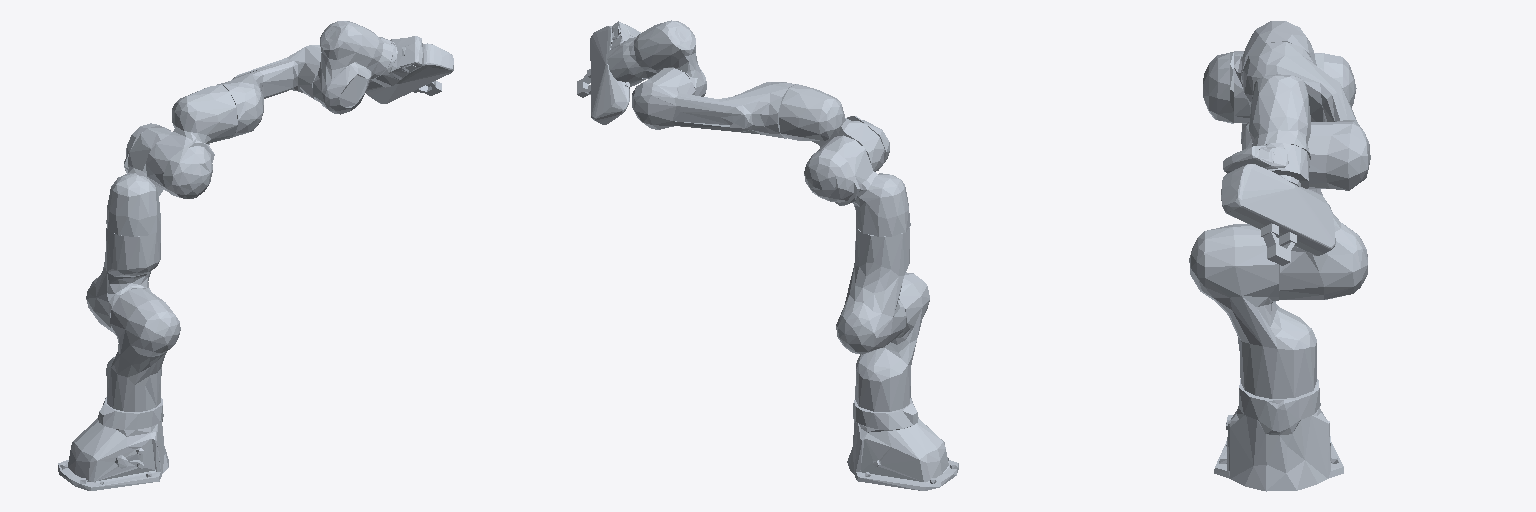
URDF robot description (fr3):
<?xml version="1.0"?>
<!-- Modified for CS 549 on 2026-10-04. Original kinematics and limits retained.
     Official collision geometry replaces detailed visual meshes.
     See model/source/LICENSE, model/source/NOTICE and model/provenance.json. -->
<robot name="fr3">
  <link name="fr3_link0">
    <collision name="fr3_link0_collision">
      <geometry>
        <mesh filename="meshes/link0.obj" />
      </geometry>
    </collision>
    <inertial>
      <origin rpy="0 0 0" xyz="-0.0172 0.0004 0.0745" />
      <mass value="2.3966" />
      <inertia ixx="0.009" ixy="0.0" ixz="0.002" iyy="0.0115" iyz="0.0" izz="0.0085" />
    </inertial>
    <visual name="fr3_link0_teaching_visual_0">
      <geometry>
        <mesh filename="meshes/link0.obj" />
      </geometry>
      <material name="teaching_grey">
        <color rgba="0.78 0.81 0.85 1" />
      </material>
    </visual>
  </link>
  <link name="fr3_link0_accelerometer_top">
      </link>
  <joint name="fr3_link0_accelerometer_top_joint" type="fixed">
    <origin rpy="3.1416 0.0 0.0" xyz="-0.017402 -0.007872 0.04715" />
    <parent link="fr3_link0" />
    <child link="fr3_link0_accelerometer_top" />
  </joint>
  <link name="fr3_link0_accelerometer_bottom">
      </link>
  <joint name="fr3_link0_accelerometer_bottom_joint" type="fixed">
    <origin rpy="0.0 0.0 -1.5708" xyz="-0.019739 0.0015506 0.05075" />
    <parent link="fr3_link0" />
    <child link="fr3_link0_accelerometer_bottom" />
  </joint>
  <link name="fr3_link1">
    <collision name="fr3_link1_collision">
      <geometry>
        <mesh filename="meshes/link1.obj" />
      </geometry>
    </collision>
    <inertial>
      <origin rpy="0 0 0" xyz="0.0000004128 -0.0181251324 -0.0386035970" />
      <mass value="2.9274653454" />
      <inertia ixx="0.023927316485107913" ixy="1.3317903455714081e-05" ixz="-0.00011404774918616684" iyy="0.0224821613275756" iyz="-0.0019950320628240115" izz="0.006350098258530016" />
    </inertial>
    <visual name="fr3_link1_teaching_visual_0">
      <geometry>
        <mesh filename="meshes/link1.obj" />
      </geometry>
      <material name="teaching_grey">
        <color rgba="0.78 0.81 0.85 1" />
      </material>
    </visual>
  </link>
  <link name="fr3_link1_accelerometer_top">
      </link>
  <joint name="fr3_link1_accelerometer_top_joint" type="fixed">
    <origin rpy="-1.5708 0.0 3.1416" xyz="0.017402 -0.093352 -0.00787" />
    <parent link="fr3_link1" />
    <child link="fr3_link1_accelerometer_top" />
  </joint>
  <link name="fr3_link1_accelerometer_bottom">
      </link>
  <joint name="fr3_link1_accelerometer_bottom_joint" type="fixed">
    <origin rpy="-1.5708 1.5708 0.0" xyz="0.01974 -0.08975 0.00155" />
    <parent link="fr3_link1" />
    <child link="fr3_link1_accelerometer_bottom" />
  </joint>
  <joint name="fr3_joint1" type="revolute">
    <origin rpy="0 0 0" xyz="0 0 0.333" />
    <parent link="fr3_link0" />
    <child link="fr3_link1" />
    <axis xyz="0 0 1" />
    <limit effort="87.0" lower="-2.9007" upper="2.9007" velocity="2.62" />
    <safety_controller k_position="100.0" k_velocity="40.0" soft_lower_limit="-2.9007" soft_upper_limit="2.9007" />
    <position_based_velocity_limits deceleration_limit="6.0" velocity_offset="0.652" />
    <dynamics D="1" K="7000" damping="0.003" friction="0.2" gear_ratio="120.0" motor_inertia="4.206399e-05" mu_coulomb="0" mu_viscous="16" />
  </joint>
  <link name="fr3_link2">
    <collision name="fr3_link2_collision">
      <geometry>
        <mesh filename="meshes/link2.obj" />
      </geometry>
    </collision>
    <inertial>
      <origin rpy="0 0 0" xyz="0.0031828864 -0.0743221644 0.0088146084" />
      <mass value="2.9355370338" />
      <inertia ixx="0.041938946257609425" ixy="0.00020257331521090626" ixz="0.004077784227179924" iyy="0.02514514885014724" iyz="-0.0042252158006570156" izz="0.06170214472888839" />
    </inertial>
    <visual name="fr3_link2_teaching_visual_0">
      <geometry>
        <mesh filename="meshes/link2.obj" />
      </geometry>
      <material name="teaching_grey">
        <color rgba="0.78 0.81 0.85 1" />
      </material>
    </visual>
  </link>
  <link name="fr3_link2_accelerometer_top">
      </link>
  <joint name="fr3_link2_accelerometer_top_joint" type="fixed">
    <origin rpy="1.5708 0.0 3.1416" xyz="0.017403 -0.11715 0.00787" />
    <parent link="fr3_link2" />
    <child link="fr3_link2_accelerometer_top" />
  </joint>
  <link name="fr3_link2_accelerometer_bottom">
      </link>
  <joint name="fr3_link2_accelerometer_bottom_joint" type="fixed">
    <origin rpy="1.5708 -1.5708 0.0" xyz="0.019737 -0.11875 -0.00155" />
    <parent link="fr3_link2" />
    <child link="fr3_link2_accelerometer_bottom" />
  </joint>
  <joint name="fr3_joint2" type="revolute">
    <origin rpy="-1.570796326794897 0 0" xyz="0 0 0" />
    <parent link="fr3_link1" />
    <child link="fr3_link2" />
    <axis xyz="0 0 1" />
    <limit effort="87.0" lower="-1.8361" upper="1.8361" velocity="2.62" />
    <safety_controller k_position="100.0" k_velocity="40.0" soft_lower_limit="-1.8361" soft_upper_limit="1.8361" />
    <position_based_velocity_limits deceleration_limit="2.585" velocity_offset="0.25" />
    <dynamics D="1" K="7000" damping="0.003" friction="0.2" gear_ratio="120.0" motor_inertia="4.206399e-05" mu_coulomb="0" mu_viscous="16" />
  </joint>
  <link name="fr3_link3">
    <collision name="fr3_link3_collision">
      <geometry>
        <mesh filename="meshes/link3.obj" />
      </geometry>
    </collision>
    <inertial>
      <origin rpy="0 0 0" xyz="0.0407015686 -0.0048200565 -0.0289730823" />
      <mass value="2.2449013699" />
      <inertia ixx="0.02410142547240885" ixy="0.002404694559042109" ixz="-0.002856269270114313" iyy="0.01974053266708178" iyz="-0.002104212683891874" izz="0.019044494482244823" />
    </inertial>
    <visual name="fr3_link3_teaching_visual_0">
      <geometry>
        <mesh filename="meshes/link3.obj" />
      </geometry>
      <material name="teaching_grey">
        <color rgba="0.78 0.81 0.85 1" />
      </material>
    </visual>
  </link>
  <link name="fr3_link3_accelerometer_top">
      </link>
  <joint name="fr3_link3_accelerometer_top_joint" type="fixed">
    <origin rpy="-1.5708 0.0 0.0" xyz="0.065099 0.077352 -0.00787" />
    <parent link="fr3_link3" />
    <child link="fr3_link3_accelerometer_top" />
  </joint>
  <link name="fr3_link3_accelerometer_bottom">
      </link>
  <joint name="fr3_link3_accelerometer_bottom_joint" type="fixed">
    <origin rpy="1.5708 1.5708 0.0" xyz="0.062769 0.073756 0.00155" />
    <parent link="fr3_link3" />
    <child link="fr3_link3_accelerometer_bottom" />
  </joint>
  <joint name="fr3_joint3" type="revolute">
    <origin rpy="1.570796326794897 0 0" xyz="0 -0.316 0" />
    <parent link="fr3_link2" />
    <child link="fr3_link3" />
    <axis xyz="0 0 1" />
    <limit effort="87.0" lower="-2.9007" upper="2.9007" velocity="2.62" />
    <safety_controller k_position="100.0" k_velocity="40.0" soft_lower_limit="-2.9007" soft_upper_limit="2.9007" />
    <position_based_velocity_limits deceleration_limit="3.5" velocity_offset="0.2005" />
    <dynamics D="1" K="7000" damping="0.003" friction="0.2" gear_ratio="120.0" motor_inertia="3.211626e-05" mu_coulomb="0" mu_viscous="16" />
  </joint>
  <link name="fr3_link4">
    <collision name="fr3_link4_collision">
      <geometry>
        <mesh filename="meshes/link4.obj" />
      </geometry>
    </collision>
    <inertial>
      <origin rpy="0 0 0" xyz="-0.0459100965 0.0630492960 -0.0085187868" />
      <mass value="2.6155955791" />
      <inertia ixx="0.03452998321913202" ixy="0.01322552265982813" ixz="0.01015142998484113" iyy="0.028881621933049058" iyz="-0.0009762833870704552" izz="0.04125471171146641" />
    </inertial>
    <visual name="fr3_link4_teaching_visual_0">
      <geometry>
        <mesh filename="meshes/link4.obj" />
      </geometry>
      <material name="teaching_grey">
        <color rgba="0.78 0.81 0.85 1" />
      </material>
    </visual>
  </link>
  <link name="fr3_link4_accelerometer_top">
      </link>
  <joint name="fr3_link4_accelerometer_top_joint" type="fixed">
    <origin rpy="-1.5708 0.0 -3.1416" xyz="-0.0651 0.046252 -0.00787" />
    <parent link="fr3_link4" />
    <child link="fr3_link4_accelerometer_top" />
  </joint>
  <link name="fr3_link4_accelerometer_bottom">
      </link>
  <joint name="fr3_link4_accelerometer_bottom_joint" type="fixed">
    <origin rpy="-1.5708 1.5708 0.0" xyz="-0.062775 0.049753 0.00155" />
    <parent link="fr3_link4" />
    <child link="fr3_link4_accelerometer_bottom" />
  </joint>
  <joint name="fr3_joint4" type="revolute">
    <origin rpy="1.570796326794897 0 0" xyz="0.0825 0 0" />
    <parent link="fr3_link3" />
    <child link="fr3_link4" />
    <axis xyz="0 0 1" />
    <limit effort="87.0" lower="-3.077" upper="-0.1169" velocity="2.62" />
    <safety_controller k_position="100.0" k_velocity="40.0" soft_lower_limit="-3.077" soft_upper_limit="-0.1169" />
    <position_based_velocity_limits deceleration_limit="4.0" velocity_offset="0.3542" />
    <dynamics D="1" K="7000" damping="0.003" friction="0.2" gear_ratio="120.0" motor_inertia="3.211626e-05" mu_coulomb="0" mu_viscous="16" />
  </joint>
  <link name="fr3_link5">
    <collision name="fr3_link5_collision">
      <geometry>
        <mesh filename="meshes/link5.obj" />
      </geometry>
    </collision>
    <inertial>
      <origin rpy="0 0 0" xyz="-0.0016039605 0.0292536262 -0.0972965990" />
      <mass value="2.3271207594" />
      <inertia ixx="0.051610278463662895" ixy="-0.005715173387783472" ixz="-0.0035673167625872135" iyy="0.04787729713371481" iyz="0.010673985108535986" izz="0.016423625579357254" />
    </inertial>
    <visual name="fr3_link5_teaching_visual_0">
      <geometry>
        <mesh filename="meshes/link5.obj" />
      </geometry>
      <material name="teaching_grey">
        <color rgba="0.78 0.81 0.85 1" />
      </material>
    </visual>
  </link>
  <link name="fr3_link5_accelerometer_top">
      </link>
  <joint name="fr3_link5_accelerometer_top_joint" type="fixed">
    <origin rpy="-1.5708 0.0 0.0" xyz="-0.017363 0.085872 -0.00795" />
    <parent link="fr3_link5" />
    <child link="fr3_link5_accelerometer_top" />
  </joint>
  <link name="fr3_link5_accelerometer_bottom">
      </link>
  <joint name="fr3_link5_accelerometer_bottom_joint" type="fixed">
    <origin rpy="1.5708 1.5708 0.0" xyz="-0.019742 0.082275 0.00146" />
    <parent link="fr3_link5" />
    <child link="fr3_link5_accelerometer_bottom" />
  </joint>
  <joint name="fr3_joint5" type="revolute">
    <origin rpy="-1.570796326794897 0 0" xyz="-0.0825 0.384 0" />
    <parent link="fr3_link4" />
    <child link="fr3_link5" />
    <axis xyz="0 0 1" />
    <limit effort="12.0" lower="-2.8763" upper="2.8763" velocity="5.26" />
    <safety_controller k_position="100.0" k_velocity="40.0" soft_lower_limit="-2.8763" soft_upper_limit="2.8763" />
    <position_based_velocity_limits deceleration_limit="17.0" velocity_offset="0.5738" />
    <dynamics D="1" K="7000" damping="0.003" friction="0.2" gear_ratio="80.0" motor_inertia="3.211626e-05" mu_coulomb="0" mu_viscous="16" />
  </joint>
  <link name="fr3_link6">
    <collision name="fr3_link6_collision">
      <geometry>
        <mesh filename="meshes/link6.obj" />
      </geometry>
    </collision>
    <inertial>
      <origin rpy="0 0 0" xyz="0.0597131221 -0.0410294666 -0.0101692726" />
      <mass value="1.8170376524" />
      <inertia ixx="0.005412333594383447" ixy="0.006193456360285834" ixz="0.0014219289306117652" iyy="0.014058329545509979" iyz="-0.0013140753741120031" izz="0.016080817924212554" />
    </inertial>
    <visual name="fr3_link6_teaching_visual_0">
      <geometry>
        <mesh filename="meshes/link6.obj" />
      </geometry>
      <material name="teaching_grey">
        <color rgba="0.78 0.81 0.85 1" />
      </material>
    </visual>
  </link>
  <joint name="fr3_joint6" type="revolute">
    <origin rpy="1.570796326794897 0 0" xyz="0 0 0" />
    <parent link="fr3_link5" />
    <child link="fr3_link6" />
    <axis xyz="0 0 1" />
    <limit effort="12.0" lower="0.4398" upper="4.6216" velocity="4.18" />
    <safety_controller k_position="100.0" k_velocity="40.0" soft_lower_limit="0.4398" soft_upper_limit="4.6216" />
    <position_based_velocity_limits deceleration_limit="5.5" velocity_offset="0.4885" />
    <dynamics D="1" K="7000" damping="0.003" friction="0.2" gear_ratio="80.0" motor_inertia="3.211626e-05" mu_coulomb="0" mu_viscous="16" />
  </joint>
  <link name="fr3_link7">
    <collision name="fr3_link7_collision">
      <geometry>
        <mesh filename="meshes/link7.obj" />
      </geometry>
    </collision>
    <inertial>
      <origin rpy="0 0 0" xyz="0.0045225817 0.0086261921 -0.0161633251" />
      <mass value="0.6271432862" />
      <inertia ixx="0.00021092389150104718" ixy="-2.433299114461931e-05" ixz="4.564480393778983e-05" iyy="0.00017718568002411474" iyz="8.744070223226438e-05" izz="5.993190599659971e-05" />
    </inertial>
    <visual name="fr3_link7_teaching_visual_0">
      <geometry>
        <mesh filename="meshes/link7.obj" />
      </geometry>
      <material name="teaching_grey">
        <color rgba="0.78 0.81 0.85 1" />
      </material>
    </visual>
  </link>
  <joint name="fr3_joint7" type="revolute">
    <origin rpy="1.570796326794897 0 0" xyz="0.088 0 0" />
    <parent link="fr3_link6" />
    <child link="fr3_link7" />
    <axis xyz="0 0 1" />
    <limit effort="12.0" lower="-3.0508" upper="3.0508" velocity="5.26" />
    <safety_controller k_position="100.0" k_velocity="40.0" soft_lower_limit="-3.0508" soft_upper_limit="3.0508" />
    <position_based_velocity_limits deceleration_limit="17.0" velocity_offset="0.4592" />
    <dynamics D="1" K="7000" damping="0.003" friction="0.2" gear_ratio="80.0" motor_inertia="3.211626e-05" mu_coulomb="0" mu_viscous="16" />
  </joint>
  <link name="fr3_link8" />
  <joint name="fr3_joint8" type="fixed">
    <origin rpy="0 0 0" xyz="0 0 0.107" />
    <parent link="fr3_link7" />
    <child link="fr3_link8" />
  </joint>
  <joint name="fr3_hand_joint" type="fixed">
    <parent link="fr3_link8" />
    <child link="fr3_hand" />
    <origin rpy="0 0 -0.7853981633974483" xyz="0 0 0" />
  </joint>
  <link name="fr3_hand">
    <collision name="fr3_hand_collision">
      <geometry>
        <mesh filename="meshes/hand.obj" />
      </geometry>
    </collision>
    <inertial>
      <origin rpy="0 0 0" xyz="-0.0000376 0.0119128 0.0207260" />
      <mass value="0.6544" />
      <inertia ixx="0.00186" ixy="0.0" ixz="0.0" iyy="0.0003" iyz="-2e-05" izz="0.00174" />
    </inertial>
    <visual name="fr3_hand_teaching_visual_0">
      <geometry>
        <mesh filename="meshes/hand.obj" />
      </geometry>
      <material name="teaching_grey">
        <color rgba="0.78 0.81 0.85 1" />
      </material>
    </visual>
  </link>
  <link name="fr3_hand_tcp" />
  <joint name="fr3_hand_tcp_joint" type="fixed">
    <origin rpy="0 0 0" xyz="0 0 0.1034" />
    <parent link="fr3_hand" />
    <child link="fr3_hand_tcp" />
  </joint>
  <link name="fr3_leftfinger">
    <collision>
      <origin rpy="0 0 0" xyz="0 18.5e-3 11e-3" />
      <geometry>
        <box size="22e-3 15e-3 20e-3" />
      </geometry>
    </collision>
    <collision>
      <origin rpy="0 0 0" xyz="0 6.8e-3 2.2e-3" />
      <geometry>
        <box size="22e-3 8.8e-3 3.8e-3" />
      </geometry>
    </collision>
    <collision>
      <origin rpy="0.5235987755982988 0 0" xyz="0 15.9e-3 28.35e-3" />
      <geometry>
        <box size="17.5e-3 7e-3 23.5e-3" />
      </geometry>
    </collision>
    <collision>
      <origin rpy="0 0 0" xyz="0 7.58e-3 45.25e-3" />
      <geometry>
        <box size="17.5e-3 15.2e-3 18.5e-3" />
      </geometry>
    </collision>
    <inertial>
      <origin rpy="0 0 0" xyz="0 0.0152850 0.0219675" />
      <mass value="0.0291" />
      <inertia ixx="8.49e-06" ixy="0.0" ixz="0.0" iyy="8.53e-06" iyz="-1.06e-06" izz="1.77e-06" />
    </inertial>
    <visual name="fr3_leftfinger_teaching_visual_0">
      <origin rpy="0 0 0" xyz="0 18.5e-3 11e-3" />
      <geometry>
        <box size="22e-3 15e-3 20e-3" />
      </geometry>
      <material name="teaching_grey">
        <color rgba="0.78 0.81 0.85 1" />
      </material>
    </visual>
    <visual name="fr3_leftfinger_teaching_visual_1">
      <origin rpy="0 0 0" xyz="0 6.8e-3 2.2e-3" />
      <geometry>
        <box size="22e-3 8.8e-3 3.8e-3" />
      </geometry>
      <material name="teaching_grey">
        <color rgba="0.78 0.81 0.85 1" />
      </material>
    </visual>
    <visual name="fr3_leftfinger_teaching_visual_2">
      <origin rpy="0.5235987755982988 0 0" xyz="0 15.9e-3 28.35e-3" />
      <geometry>
        <box size="17.5e-3 7e-3 23.5e-3" />
      </geometry>
      <material name="teaching_grey">
        <color rgba="0.78 0.81 0.85 1" />
      </material>
    </visual>
    <visual name="fr3_leftfinger_teaching_visual_3">
      <origin rpy="0 0 0" xyz="0 7.58e-3 45.25e-3" />
      <geometry>
        <box size="17.5e-3 15.2e-3 18.5e-3" />
      </geometry>
      <material name="teaching_grey">
        <color rgba="0.78 0.81 0.85 1" />
      </material>
    </visual>
  </link>
  <link name="fr3_rightfinger">
    <collision>
      <origin rpy="0 0 0" xyz="0 18.5e-3 11e-3" />
      <geometry>
        <box size="22e-3 15e-3 20e-3" />
      </geometry>
    </collision>
    <collision>
      <origin rpy="0 0 0" xyz="0 6.8e-3 2.2e-3" />
      <geometry>
        <box size="22e-3 8.8e-3 3.8e-3" />
      </geometry>
    </collision>
    <collision>
      <origin rpy="-0.5235987755982988 0 3.141592653589793" xyz="0 15.9e-3 28.35e-3" />
      <geometry>
        <box size="17.5e-3 7e-3 23.5e-3" />
      </geometry>
    </collision>
    <collision>
      <origin rpy="0 0 0" xyz="0 7.58e-3 45.25e-3" />
      <geometry>
        <box size="17.5e-3 15.2e-3 18.5e-3" />
      </geometry>
    </collision>
    <inertial>
      <origin rpy="0 0 0" xyz="0 0.0152850 0.0219675" />
      <mass value="0.0291" />
      <inertia ixx="8.49e-06" ixy="0.0" ixz="0.0" iyy="8.53e-06" iyz="-1.06e-06" izz="1.77e-06" />
    </inertial>
    <visual name="fr3_rightfinger_teaching_visual_0">
      <origin rpy="0 0 0" xyz="0 18.5e-3 11e-3" />
      <geometry>
        <box size="22e-3 15e-3 20e-3" />
      </geometry>
      <material name="teaching_grey">
        <color rgba="0.78 0.81 0.85 1" />
      </material>
    </visual>
    <visual name="fr3_rightfinger_teaching_visual_1">
      <origin rpy="0 0 0" xyz="0 6.8e-3 2.2e-3" />
      <geometry>
        <box size="22e-3 8.8e-3 3.8e-3" />
      </geometry>
      <material name="teaching_grey">
        <color rgba="0.78 0.81 0.85 1" />
      </material>
    </visual>
    <visual name="fr3_rightfinger_teaching_visual_2">
      <origin rpy="-0.5235987755982988 0 3.141592653589793" xyz="0 15.9e-3 28.35e-3" />
      <geometry>
        <box size="17.5e-3 7e-3 23.5e-3" />
      </geometry>
      <material name="teaching_grey">
        <color rgba="0.78 0.81 0.85 1" />
      </material>
    </visual>
    <visual name="fr3_rightfinger_teaching_visual_3">
      <origin rpy="0 0 0" xyz="0 7.58e-3 45.25e-3" />
      <geometry>
        <box size="17.5e-3 15.2e-3 18.5e-3" />
      </geometry>
      <material name="teaching_grey">
        <color rgba="0.78 0.81 0.85 1" />
      </material>
    </visual>
  </link>
  <joint name="fr3_finger_joint1" type="prismatic">
    <parent link="fr3_hand" />
    <child link="fr3_leftfinger" />
    <origin rpy="0 0 0" xyz="0 0 0.0584" />
    <axis xyz="0 1 0" />
    <limit effort="100" lower="0.0" upper="0.04" velocity="0.2" />
    <dynamics damping="0.3" />
  </joint>
  <joint name="fr3_finger_joint2" type="prismatic">
    <parent link="fr3_hand" />
    <child link="fr3_rightfinger" />
    <origin rpy="0 0 3.141592653589793" xyz="0 0 0.0584" />
    <axis xyz="0 1 0" />
    <limit effort="100" lower="0.0" upper="0.04" velocity="0.2" />
    <mimic joint="fr3_finger_joint1" />
    <dynamics damping="0.3" />
  </joint>
</robot>

--- What the picture shows (computed from the rendered views, not written in the file) ---
3 views of the same robot in one strip: view 1: azimuth 30°, elevation 25°; view 2: azimuth 150°, elevation 25°; view 3: azimuth 270°, elevation 25° (orthographic).
Model fr3 with 25 links and 24 joints (7 revolute, 2 prismatic, 15 fixed), rooted at fr3_link0, posed all joints at 0 but 2 set to mid-range because 0 is outside their limits (fr3_joint4 = -1.6, fr3_joint6 = 2.53).
Links seen in each view (by area): view 1: fr3_link0, fr3_link1, fr3_link4, fr3_link6, fr3_link3, fr3_link5, fr3_link2, fr3_hand, fr3_link7; view 2: fr3_link0, fr3_link5, fr3_link2, fr3_link3, fr3_link1, fr3_link4, fr3_link6, fr3_hand, fr3_link7; view 3: fr3_link1, fr3_link0, fr3_link5, fr3_hand, fr3_link2, fr3_link6, fr3_link4, fr3_link7, fr3_link3, fr3_leftfinger.
Link boxes in pixels (left/top/right/bottom): fr3_link0: left=58, top=397, right=168, bottom=490; fr3_link1: left=106, top=288, right=180, bottom=411; fr3_link4: left=146, top=84, right=237, bottom=198; fr3_link6: left=313, top=21, right=392, bottom=114; fr3_link3: left=106, top=123, right=171, bottom=236; fr3_link5: left=217, top=45, right=321, bottom=137; fr3_link2: left=86, top=228, right=160, bottom=333; fr3_hand: left=366, top=43, right=453, bottom=103; fr3_link7: left=371, top=36, right=422, bottom=87; fr3_link0: left=847, top=398, right=958, bottom=490; fr3_link5: left=632, top=68, right=795, bottom=138; fr3_link2: left=836, top=227, right=909, bottom=354; fr3_link3: left=804, top=135, right=910, bottom=236; fr3_link1: left=855, top=272, right=929, bottom=411; fr3_link4: left=779, top=84, right=889, bottom=171; fr3_link6: left=623, top=20, right=706, bottom=96; fr3_hand: left=590, top=26, right=629, bottom=124; fr3_link7: left=607, top=21, right=645, bottom=88; fr3_link1: left=1189, top=224, right=1316, bottom=398; fr3_link0: left=1214, top=379, right=1343, bottom=491; fr3_link5: left=1242, top=42, right=1370, bottom=190; fr3_hand: left=1221, top=164, right=1335, bottom=255; fr3_link2: left=1279, top=189, right=1367, bottom=299; fr3_link6: left=1241, top=74, right=1310, bottom=159; fr3_link4: left=1203, top=21, right=1315, bottom=123; fr3_link7: left=1223, top=143, right=1309, bottom=188; fr3_link3: left=1241, top=53, right=1356, bottom=143; fr3_leftfinger: left=1261, top=223, right=1282, bottom=261.
Bounding box of the posed robot: 0.8605 × 0.2618 × 0.8576 m (x, y, z).
Meshes: 9 distinct files referenced, 9 mesh visuals loaded (9 OBJ).
